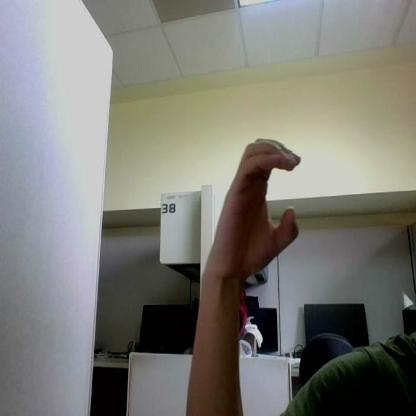C: (217, 139, 300, 279)
